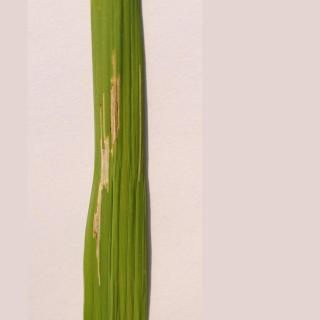Hawar-Daun: (86, 105, 121, 294), (93, 47, 132, 140)
